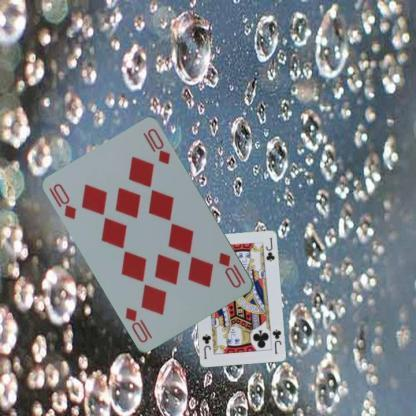10d: (46, 181, 78, 221), (216, 249, 247, 290)
Jc: (270, 326, 282, 355)
